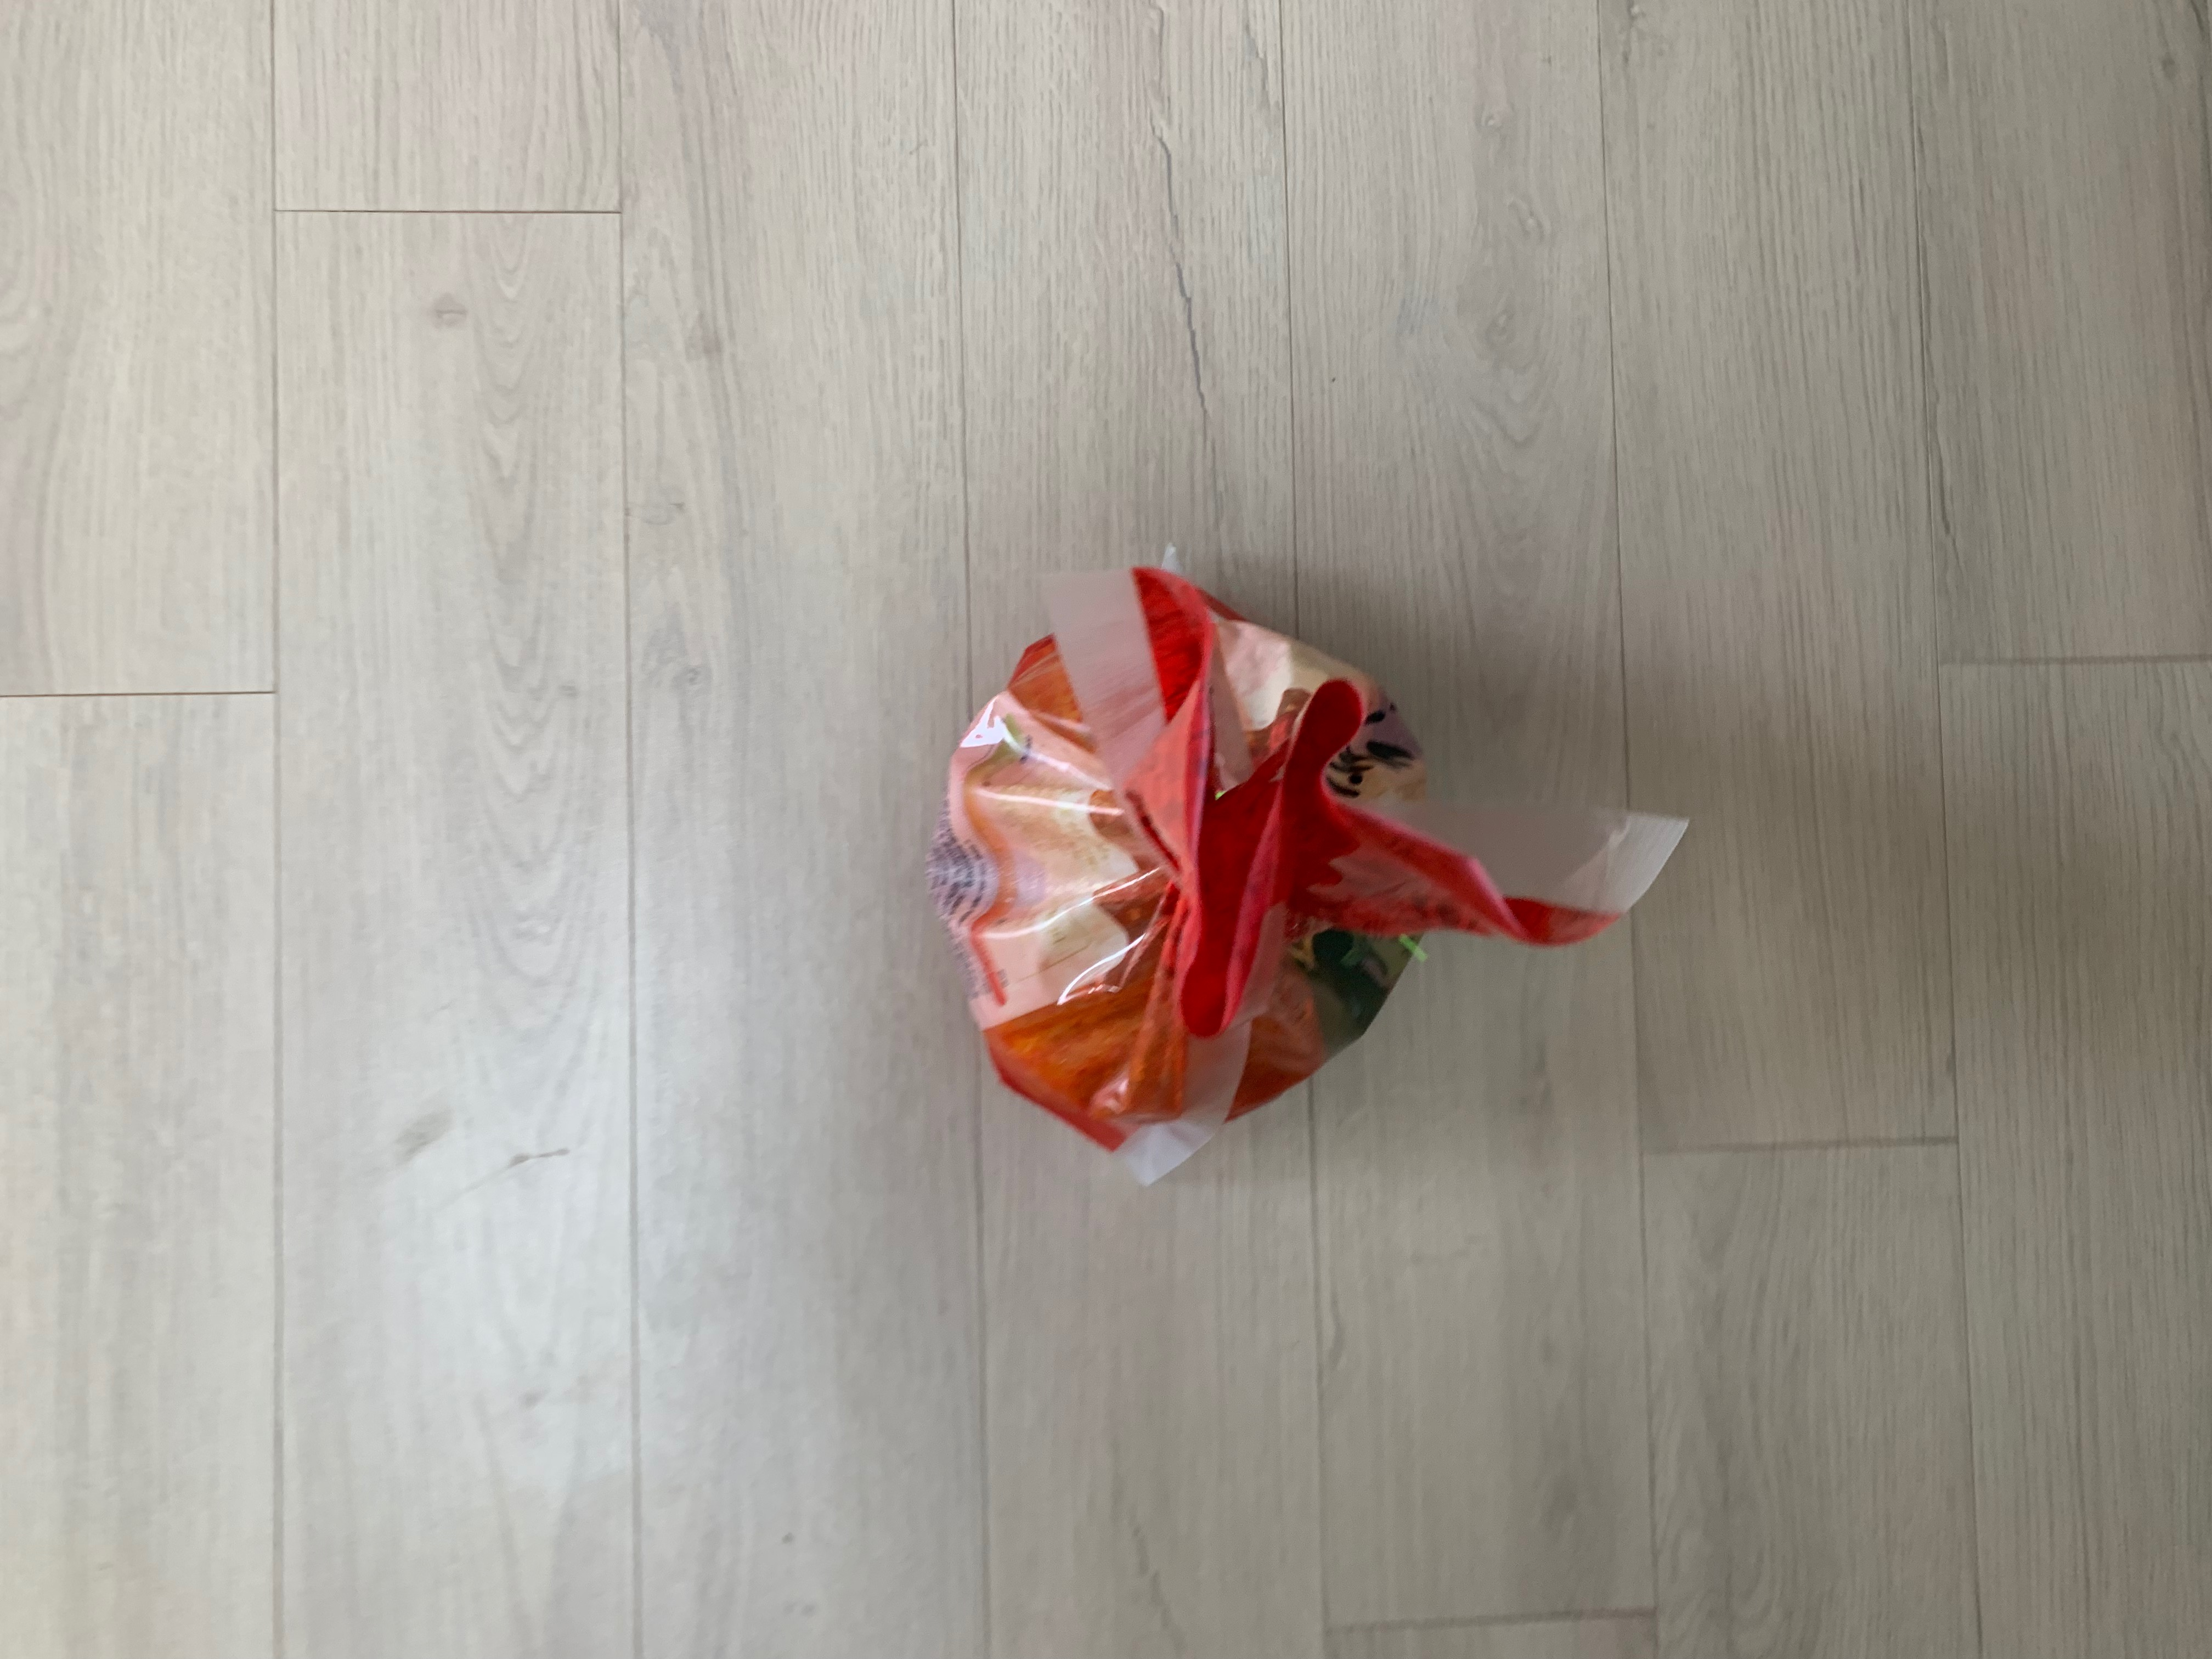kimchi: (932, 561, 1613, 1154)
